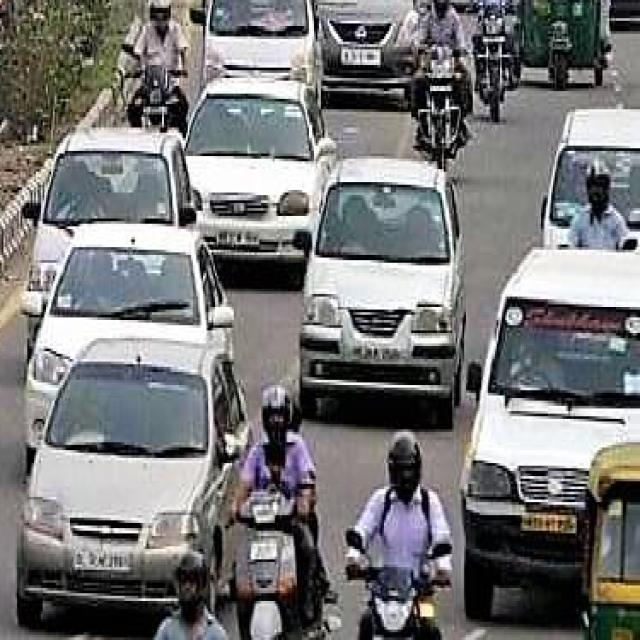bike: (224, 484, 314, 640), (340, 549, 454, 640), (410, 34, 471, 169), (124, 57, 181, 143), (476, 0, 513, 127)
